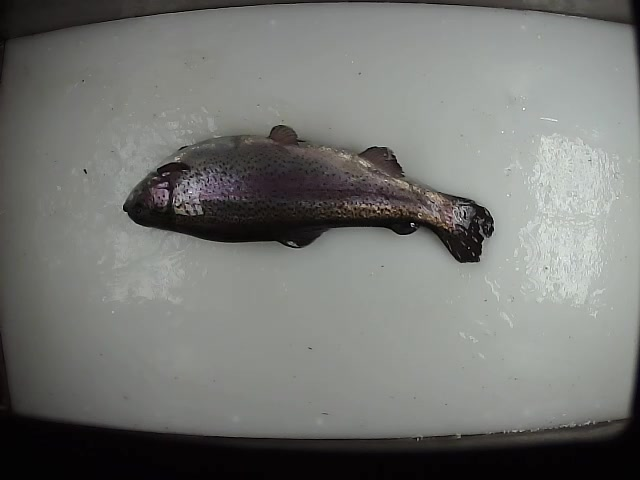fish: (122, 123, 496, 265)
